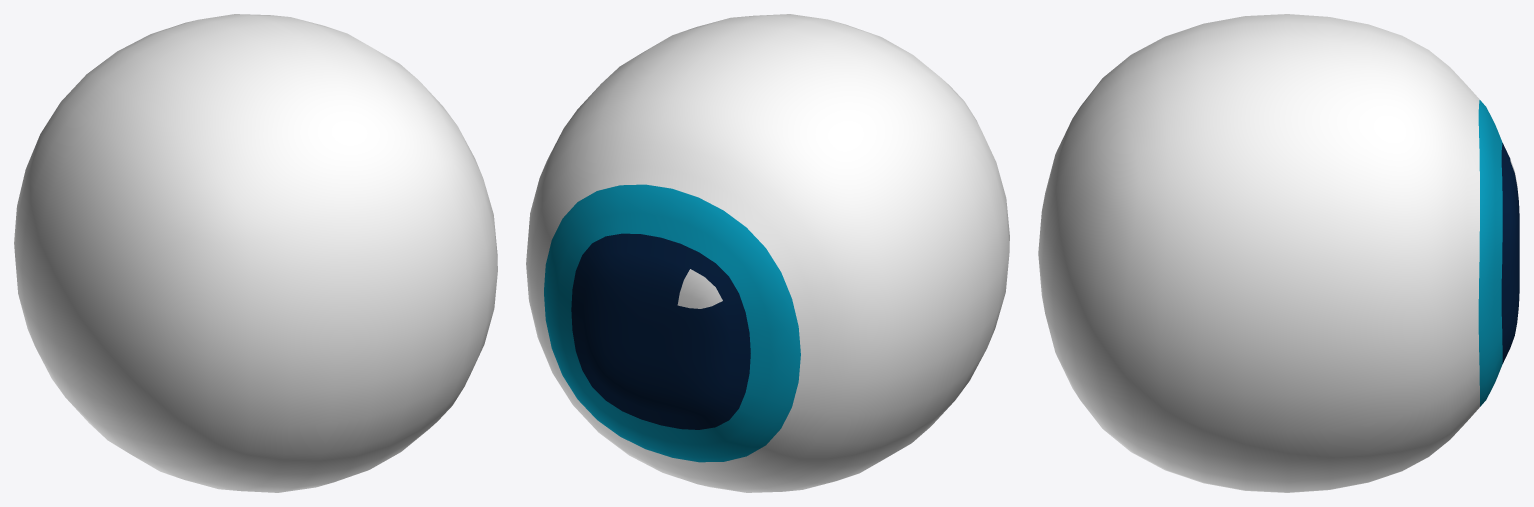
The model's file is eye.glb.
The picture shows the model from 3 angles, left to right: view 1: azimuth 30°, elevation 25°; view 2: azimuth 150°, elevation 25°; view 3: azimuth 270°, elevation 25°; orthographic projection.
Visible parts, largest first — view 1: Cube.016; view 2: Cube.016; view 3: Cube.016.
Boxes of the visible parts, x1,y1,x2,y2 form: Cube.016: (14,14,497,492); Cube.016: (526,14,1009,492); Cube.016: (1038,14,1519,492).
Size of the model in its own units: 10.58 by 10.58 by 10.76.
1 material, 1 textured.
